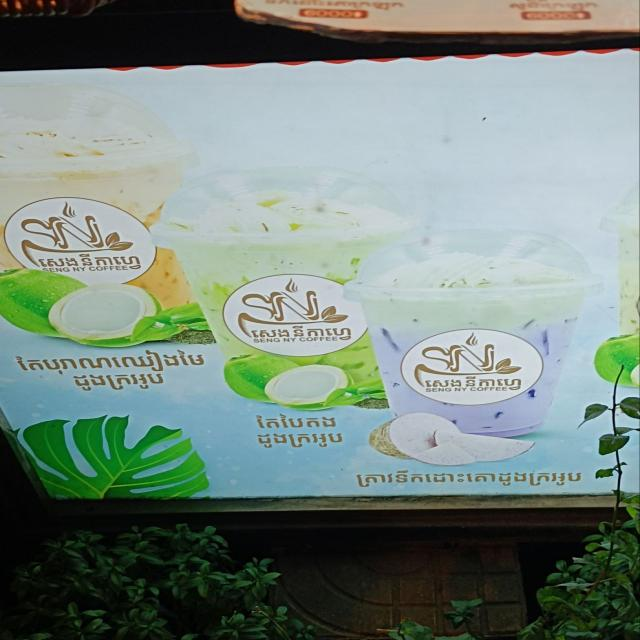Yolov11kh: (10, 346, 215, 378), (346, 467, 589, 492), (35, 249, 143, 271), (416, 372, 527, 392), (242, 324, 359, 342), (66, 372, 169, 392), (255, 431, 345, 449), (254, 411, 337, 430)
